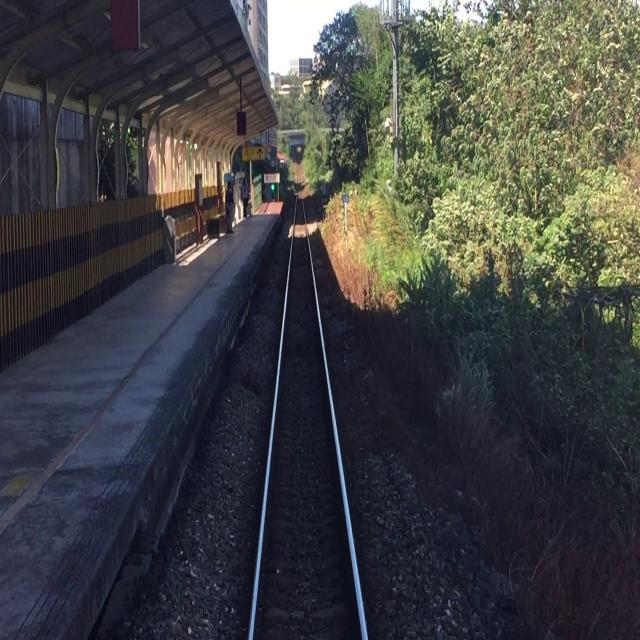track: (244, 180, 379, 640)
